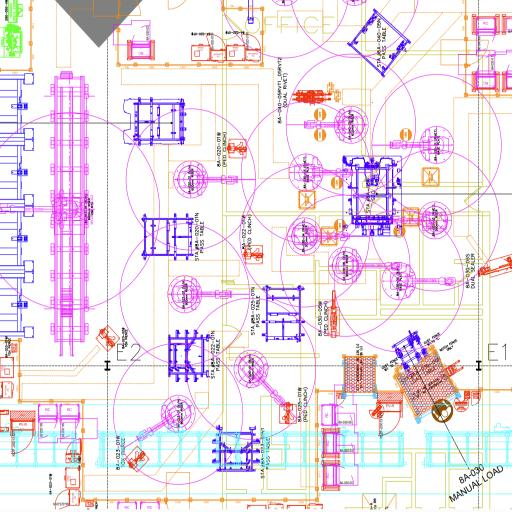robot: (232, 349, 290, 409), (380, 261, 458, 304), (134, 393, 198, 445), (162, 273, 233, 317), (386, 124, 456, 166), (284, 151, 355, 192), (299, 104, 369, 144), (172, 159, 240, 200), (285, 216, 351, 256), (390, 200, 452, 242)
